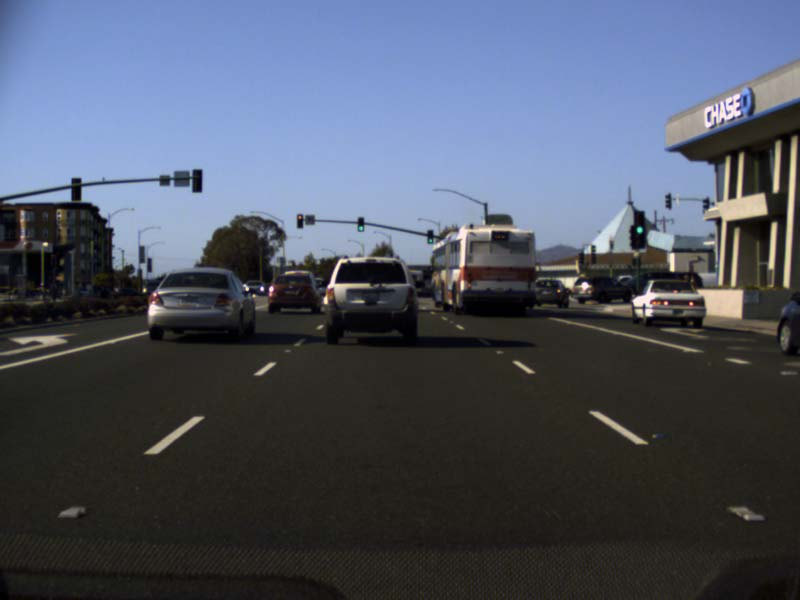Green: (634, 211, 644, 248), (357, 216, 363, 232), (426, 229, 432, 244)
Red: (296, 213, 303, 229)
